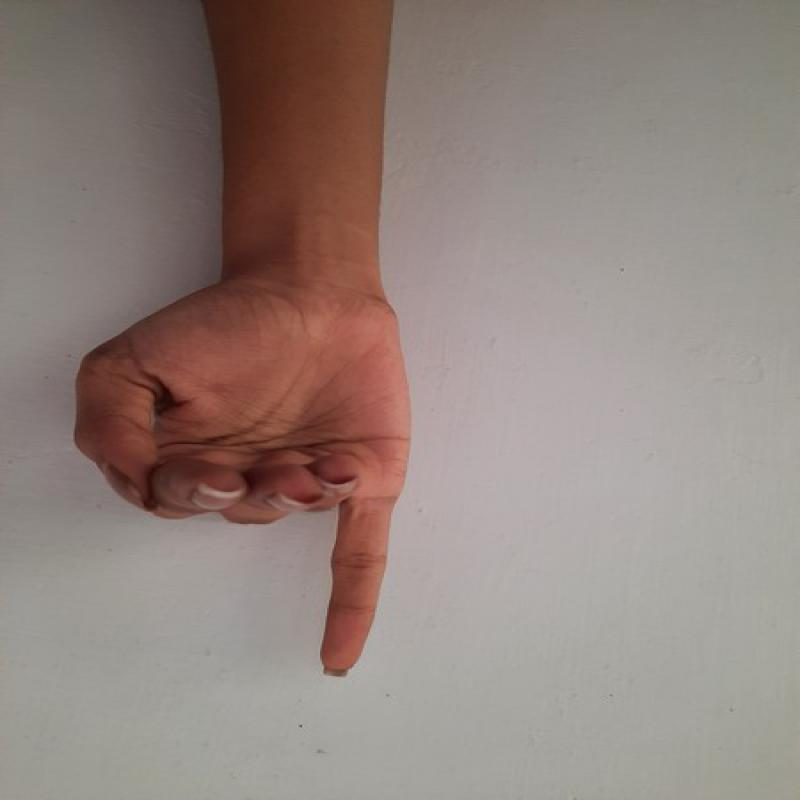Kartharee Mukham: (68, 260, 429, 685)
